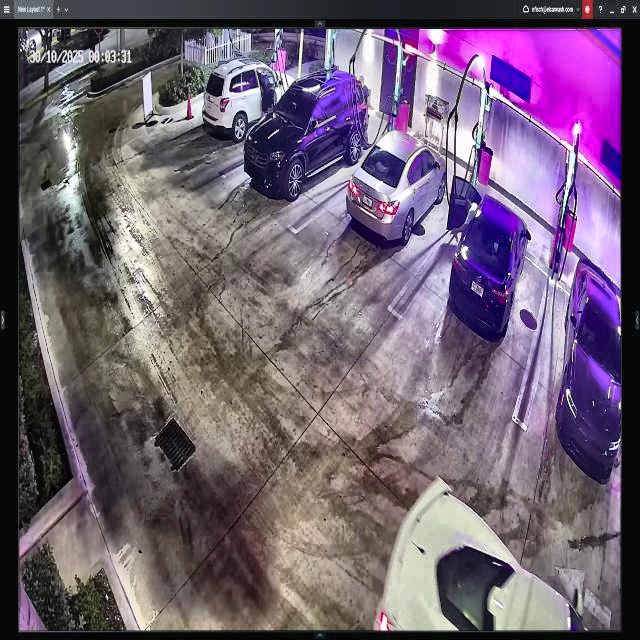Car: (242, 67, 368, 197), (448, 174, 531, 338), (346, 132, 446, 241)
